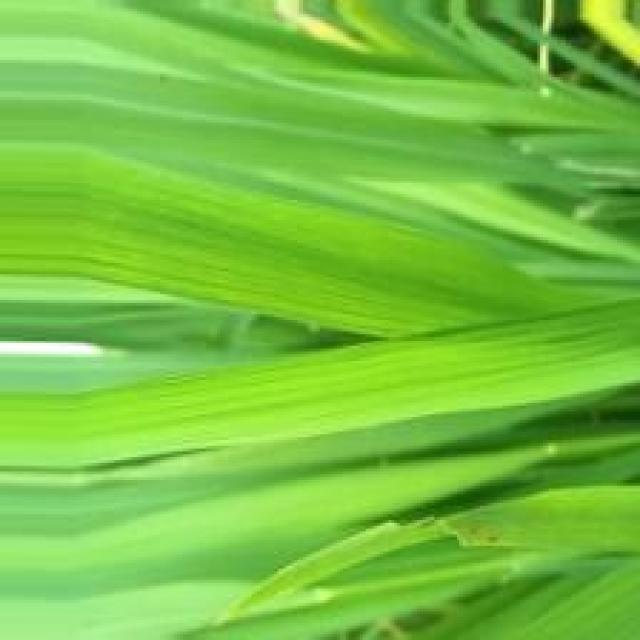HealthyLeaf: (79, 307, 631, 443), (80, 162, 507, 334), (147, 83, 381, 175)
